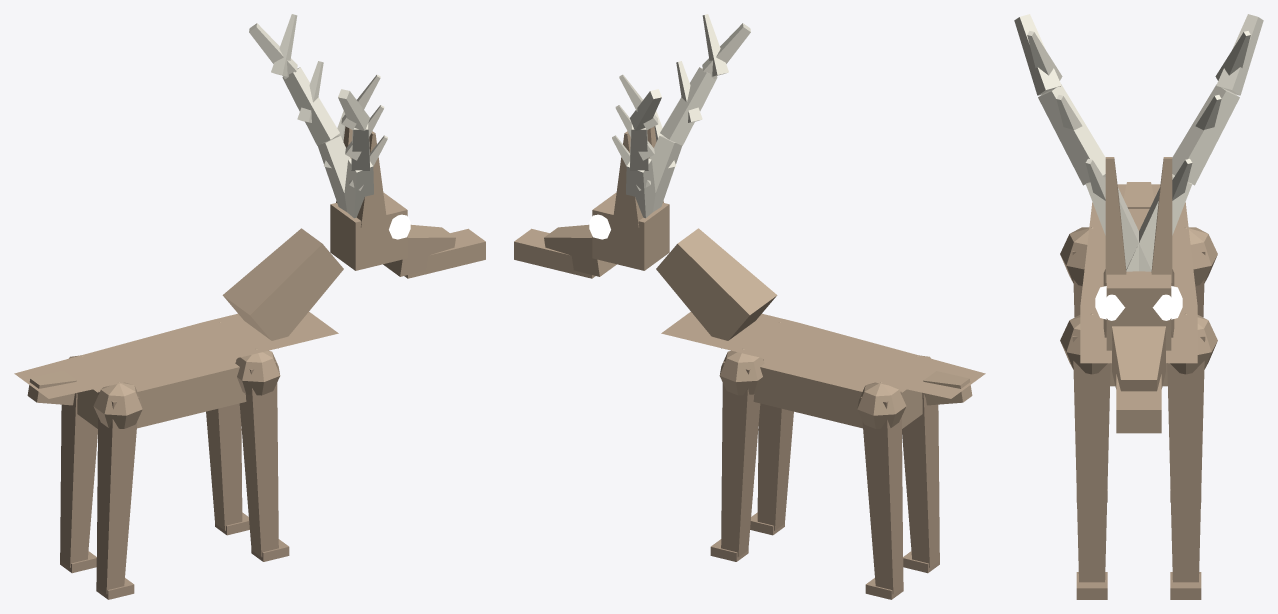
The model's file is stag.glb.
The picture shows the model from 3 angles, left to right: view 1: azimuth 30°, elevation 25°; view 2: azimuth 150°, elevation 25°; view 3: azimuth 270°, elevation 25°; orthographic projection. The views are drawn at different scales.
Parts seen in each view (by area): view 1: body, legBR, legFR, head, legBL, antler_1, legFL, antler_2, jaw, ear_-1, tail0; view 2: body, legBL, legFL, head, legBR, antler_2, legFR, antler_1, jaw, ear_1, tail0; view 3: body, legFL, legFR, antler_1, antler_2, head, jaw, ear_-1, ear_1, eye, tail0.
Boxes of the visible parts, <box> form: body: <box>14,228,343,428</box>; legBR: <box>96,391,139,599</box>; legFR: <box>236,359,289,561</box>; head: <box>330,192,455,276</box>; legBL: <box>60,393,97,573</box>; antler_1: <box>249,14,350,211</box>; legFL: <box>206,403,249,535</box>; antler_2: <box>338,74,387,218</box>; jaw: <box>404,228,485,278</box>; ear_-1: <box>357,131,386,227</box>; tail0: <box>27,371,76,405</box>; body: <box>656,228,985,428</box>; legBL: <box>860,391,903,599</box>; legFL: <box>710,359,763,561</box>; head: <box>544,192,669,276</box>; legBR: <box>902,393,939,573</box>; antler_2: <box>649,14,750,211</box>; legFR: <box>750,403,793,535</box>; antler_1: <box>612,74,661,218</box>; jaw: <box>514,228,595,278</box>; ear_1: <box>613,131,642,227</box>; tail0: <box>923,371,972,405</box>; body: <box>1060,184,1217,386</box>; legFL: <box>1167,336,1205,599</box>; legFR: <box>1072,336,1110,599</box>; antler_1: <box>1126,14,1263,271</box>; antler_2: <box>1014,14,1151,271</box>; head: <box>1106,271,1171,391</box>; jaw: <box>1116,374,1161,433</box>; ear_-1: <box>1105,157,1126,282</box>; ear_1: <box>1151,157,1172,282</box>; eye: <box>1095,286,1182,320</box>; tail0: <box>1123,182,1154,208</box>.
Size of the model in its own units: 1.54 by 1.57 by 0.5804.
